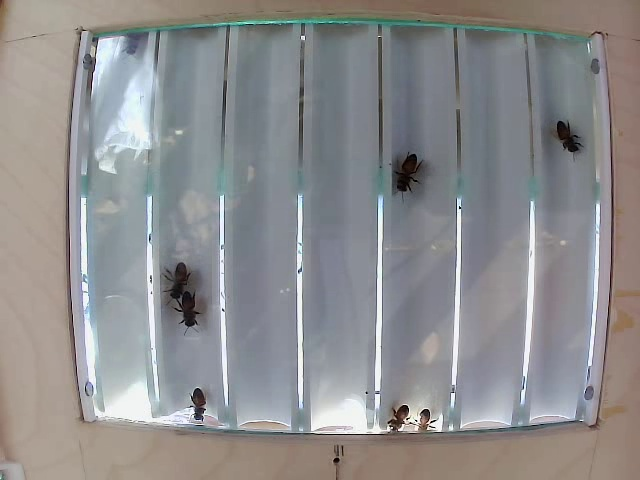bee: (385, 153, 432, 209), (548, 107, 588, 159), (172, 296, 205, 344), (173, 389, 214, 426), (380, 399, 408, 442), (150, 262, 190, 279), (417, 412, 435, 434)
